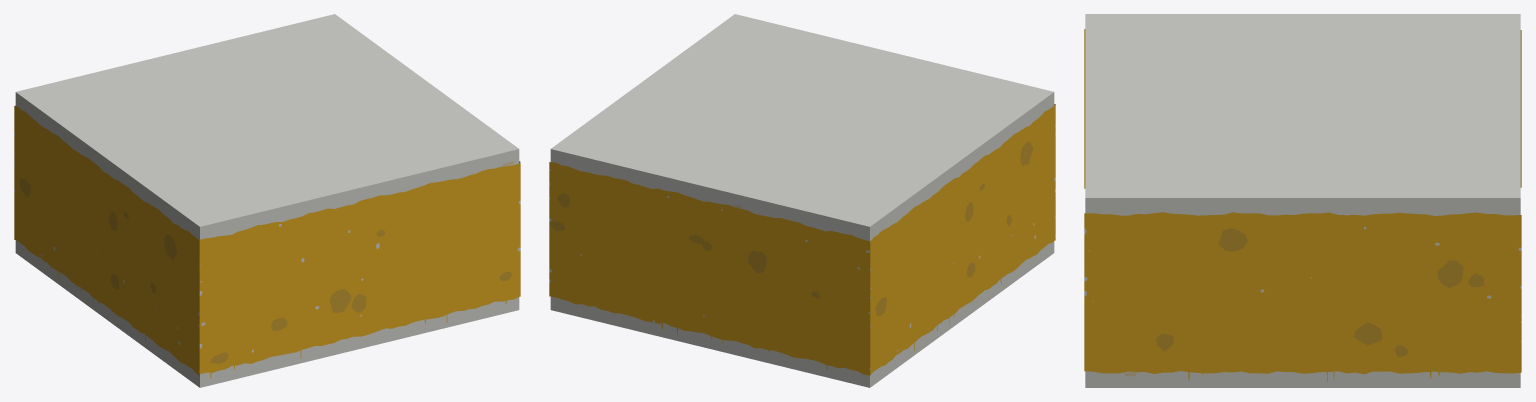
Rendered from pillar_band2_gelb.glb.
3 renders of one model, left to right at view 1: azimuth 30°, elevation 25°; view 2: azimuth 150°, elevation 25°; view 3: azimuth 270°, elevation 25°, orthographic. The views are drawn at different scales.
Visible parts, largest first — view 1: band; view 2: band; view 3: band.
Boxes of the visible parts, box(x1,y1,x2,y2) form: band: box(14, 14, 520, 387); band: box(549, 14, 1055, 387); band: box(1084, 14, 1521, 387).
Size of the model in its own units: 2 by 0.96 by 2.
